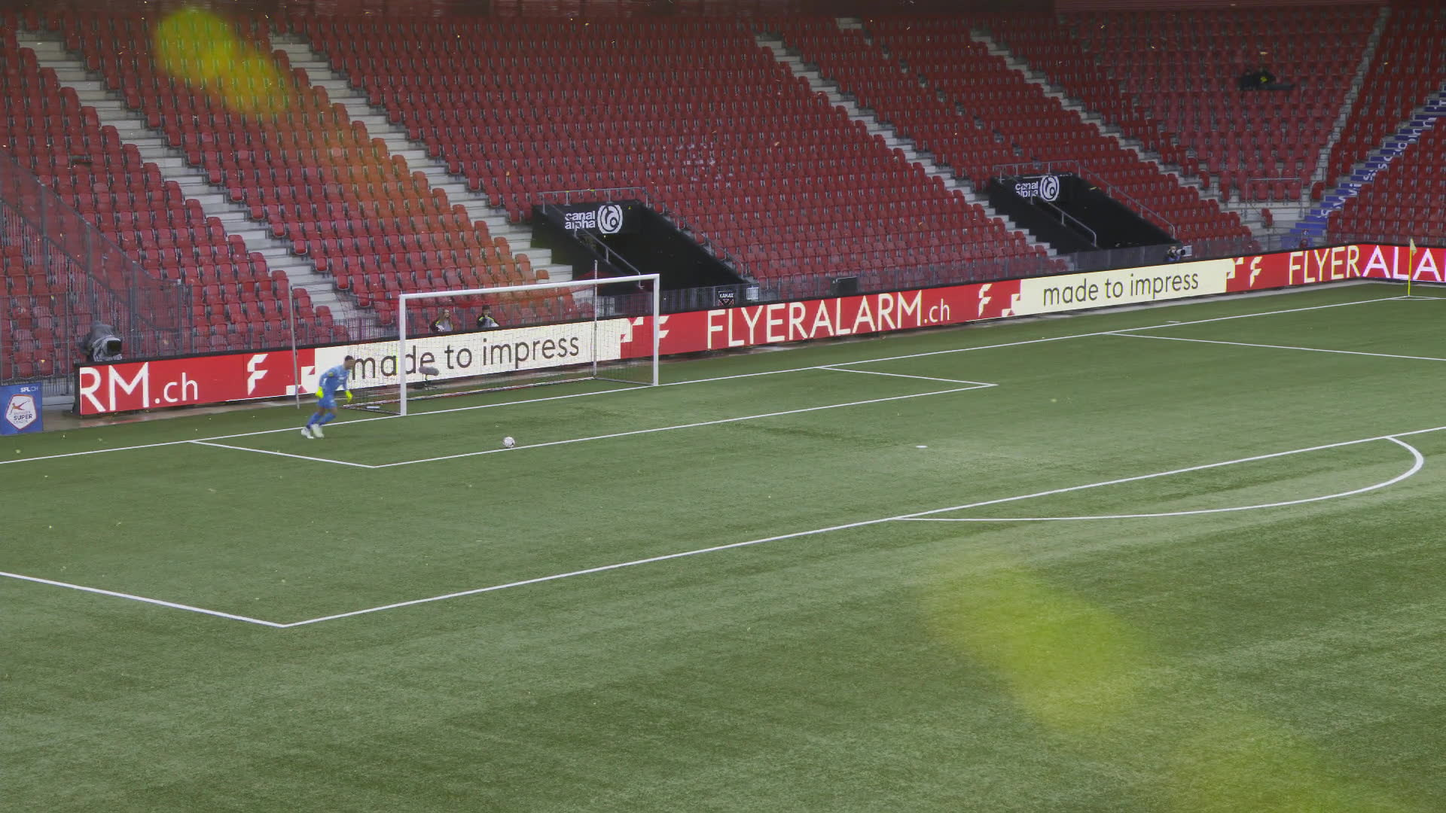ball: (502, 435, 515, 447)
player: (300, 355, 355, 439)
